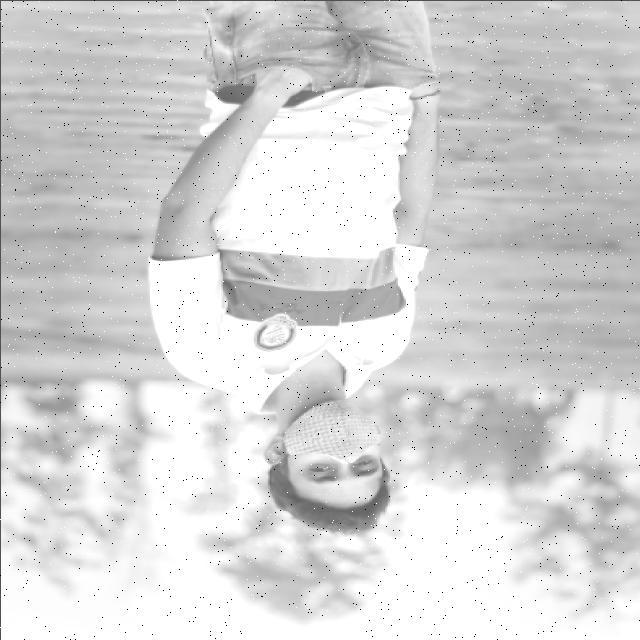face_mask: (260, 397, 387, 509)
